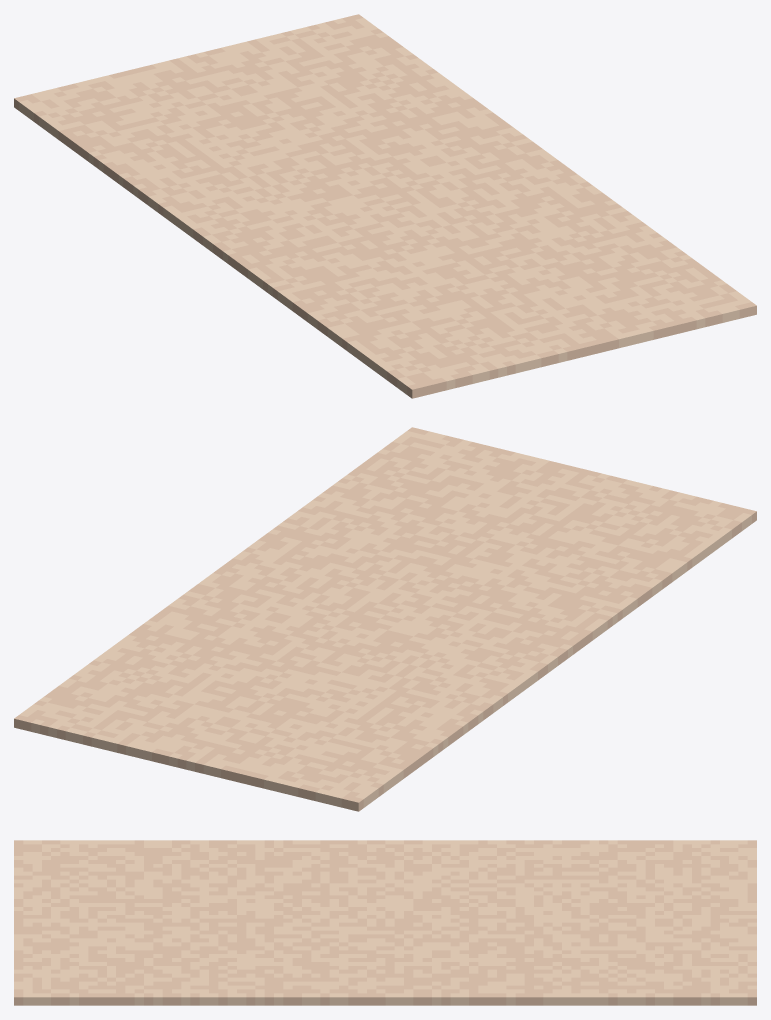
Rendered from floor_02_M.glb.
3 views of the same model, one above another, from view 1: azimuth 30°, elevation 25°; view 2: azimuth 150°, elevation 25°; view 3: azimuth 270°, elevation 25° (orthographic). The views are drawn at different scales.
Visible parts, largest first — view 1: Untitled; view 2: Untitled; view 3: Untitled.
Part boxes in pixels (x1=…): Untitled: x1=14, y1=14, x2=756, y2=398; Untitled: x1=14, y1=427, x2=756, y2=811; Untitled: x1=14, y1=840, x2=756, y2=1005.
Bounding box in the file's own units: 1.2 × 0.03 × 2.4.
1 material, 1 textured.
